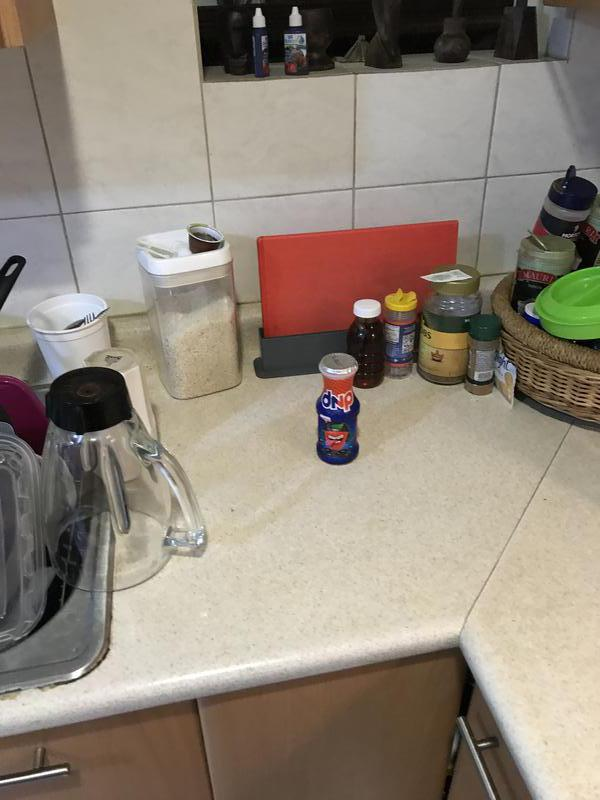danup: (314, 353, 362, 464)
